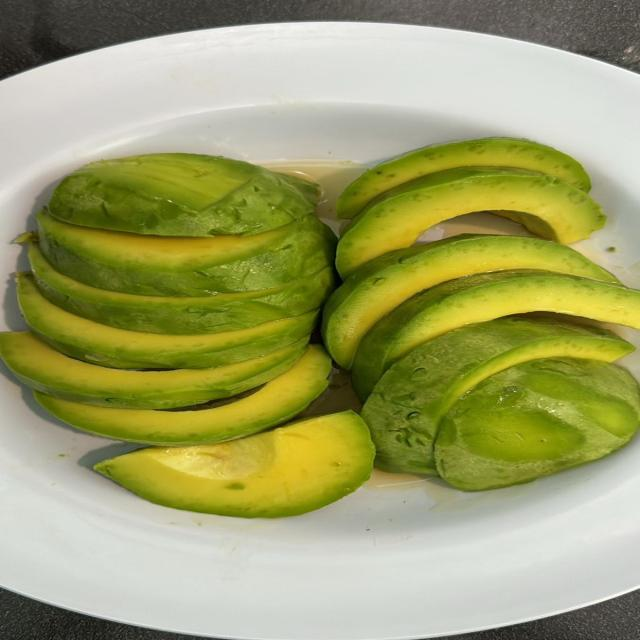avocado: (362, 318, 634, 474), (323, 235, 619, 368), (353, 270, 639, 399), (337, 167, 605, 278), (35, 345, 331, 445), (94, 411, 373, 517), (18, 274, 318, 369), (29, 245, 335, 334), (435, 358, 639, 490), (37, 212, 336, 296), (0, 332, 308, 408), (49, 154, 317, 236), (337, 138, 590, 218)
